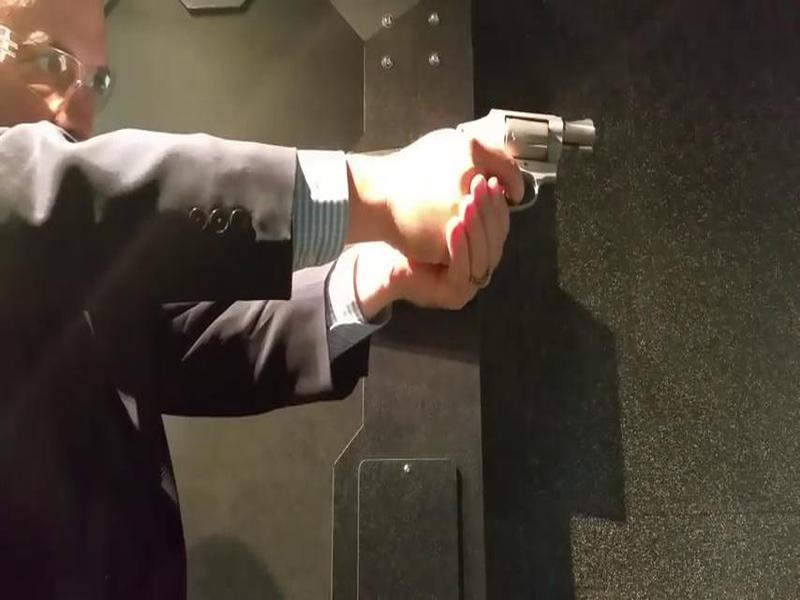Revolver: (399, 102, 580, 239)
